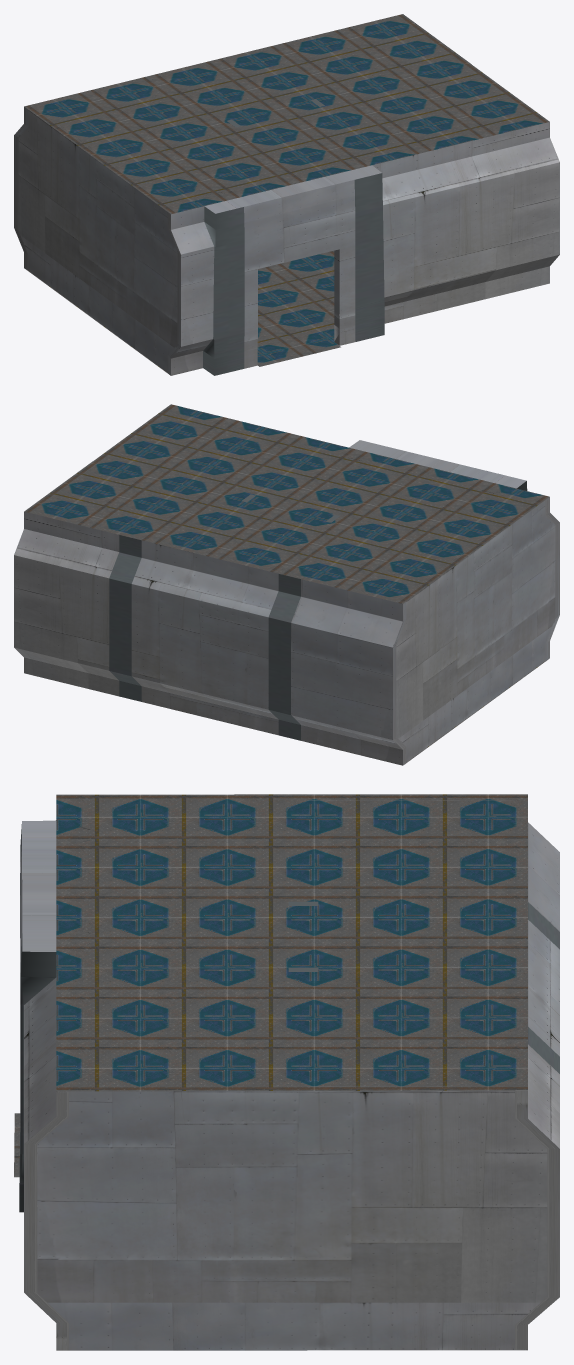
Rendered from almacen_peque_arriba.obj.
The picture shows the model from 3 angles, top to bottom: view 1: azimuth 30°, elevation 25°; view 2: azimuth 150°, elevation 25°; view 3: azimuth 270°, elevation 25°; orthographic projection. The views are drawn at different scales.
Parts seen in each view (by area): view 1: polySurface2138; view 2: polySurface2138; view 3: polySurface2138.
Part boxes in pixels (x1,y1,x2,y2): polySurface2138: [14, 14, 559, 375]; polySurface2138: [14, 404, 559, 765]; polySurface2138: [14, 794, 559, 1350].
Size of the model in its own units: 49.6 by 20.27 by 38.57.
